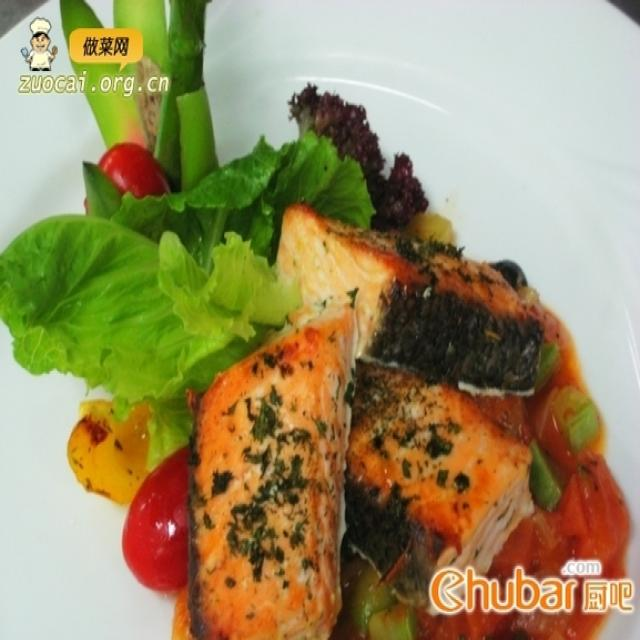熟制海鲜: (8, 2, 631, 634)
